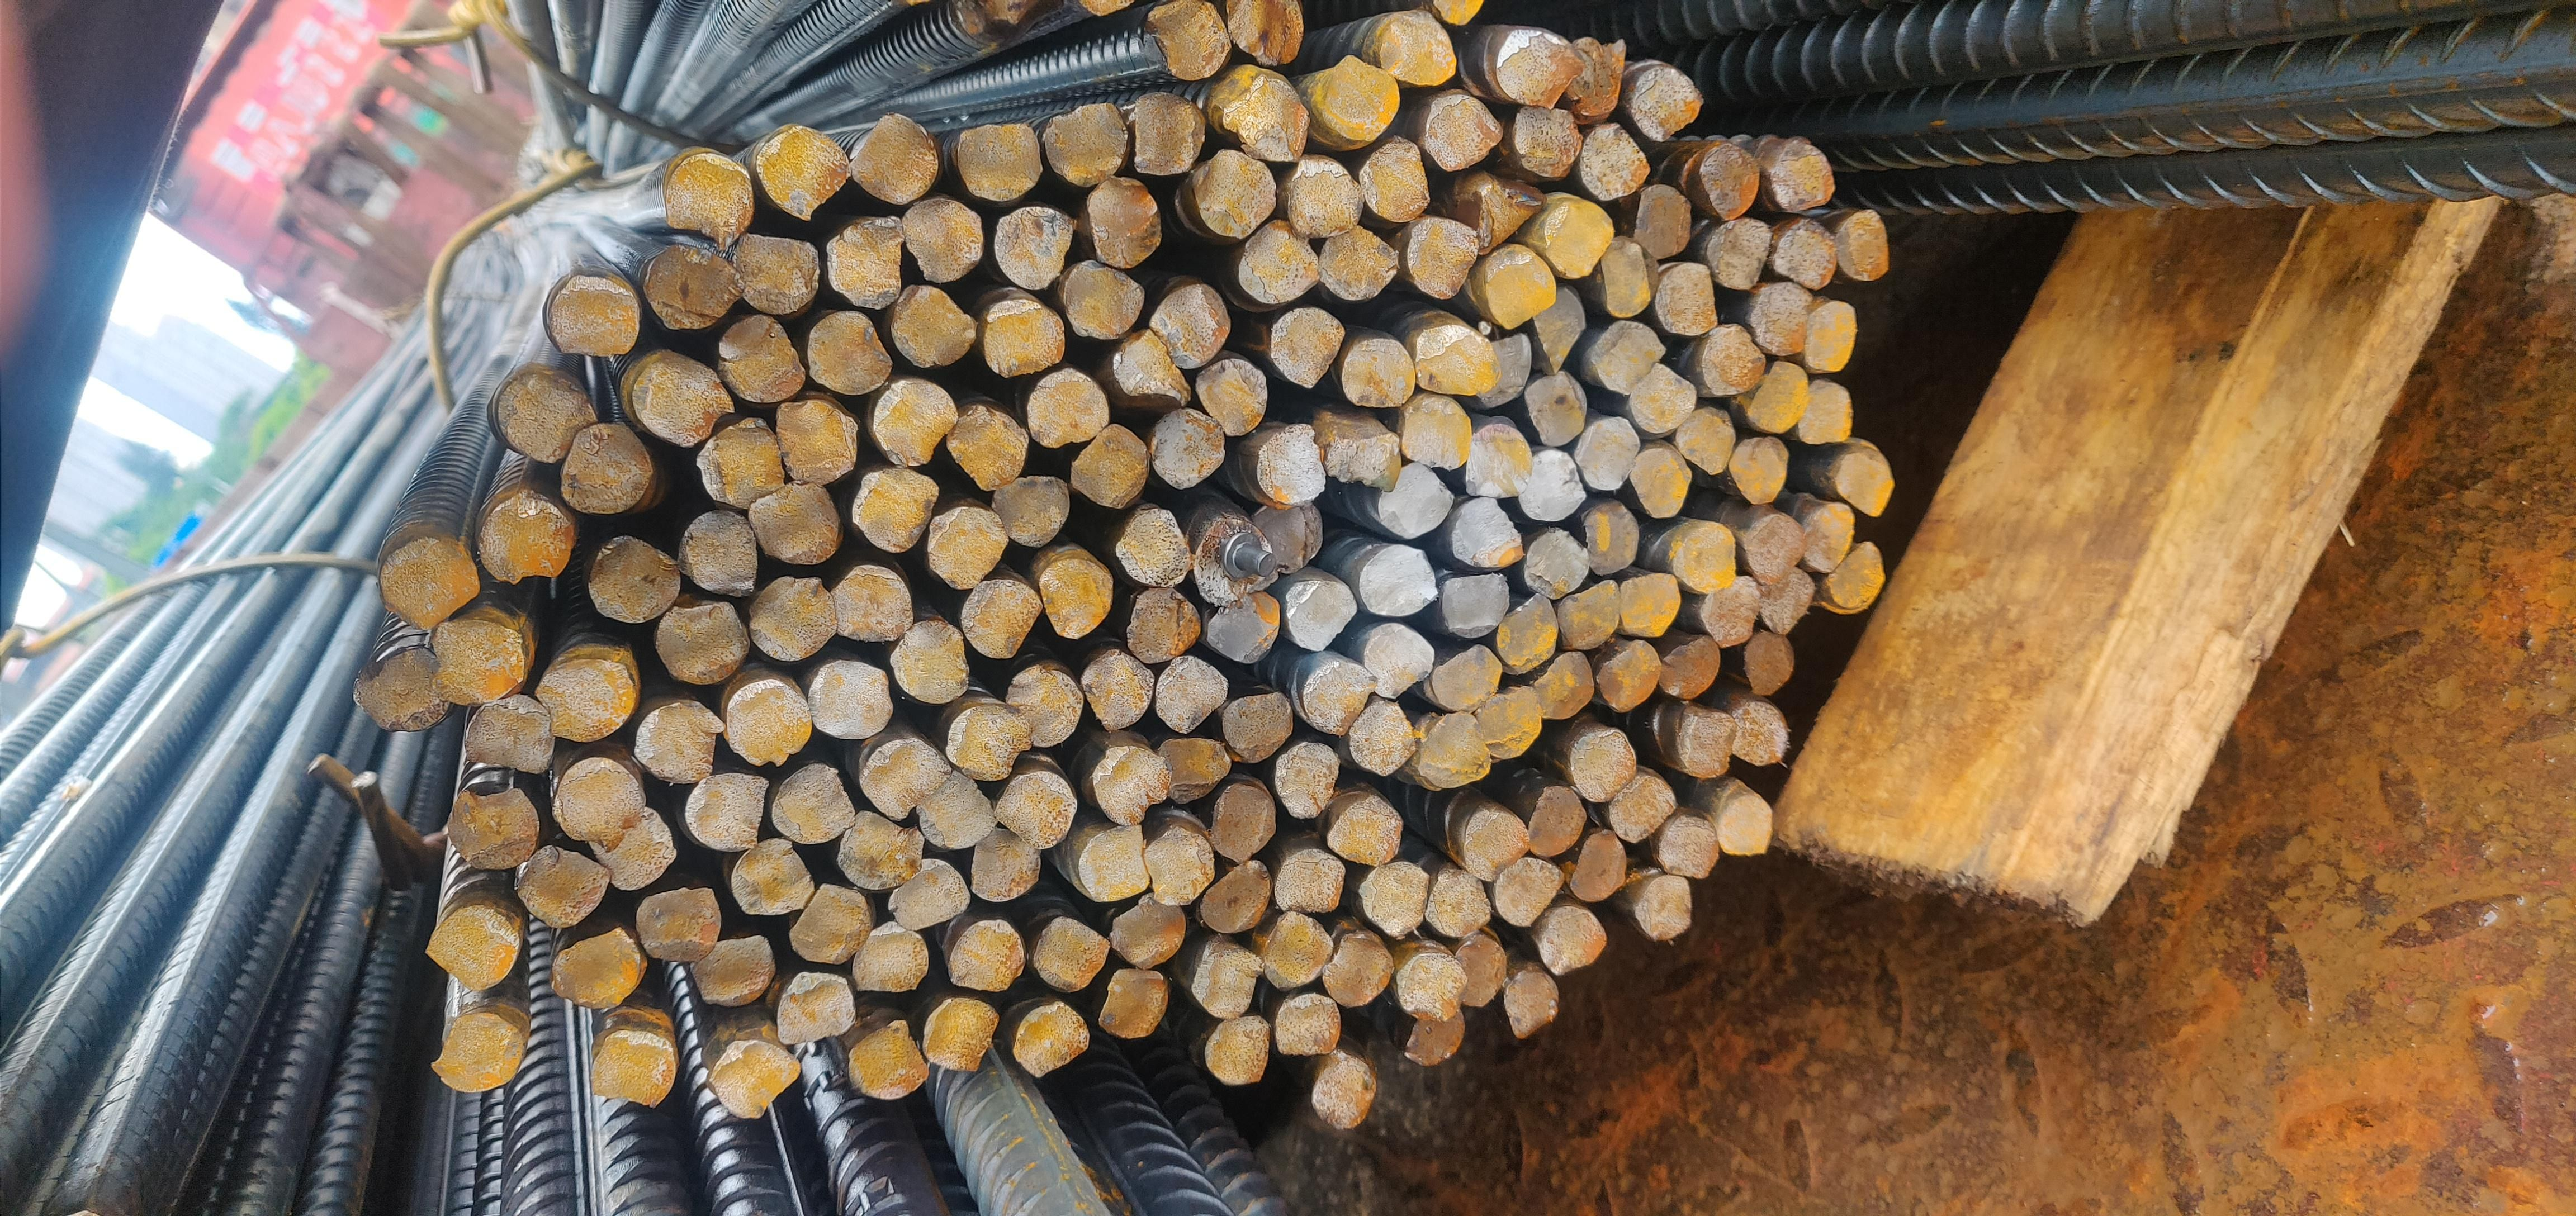rebar: (371, 534, 484, 631), (627, 354, 737, 449), (661, 149, 761, 249), (755, 121, 852, 223), (492, 367, 596, 462), (427, 616, 531, 710), (556, 420, 655, 518), (475, 489, 576, 586), (544, 269, 643, 364), (419, 902, 522, 994), (651, 598, 752, 690), (535, 654, 639, 744), (583, 534, 686, 624), (552, 752, 648, 850), (1216, 69, 1311, 165), (850, 110, 940, 212), (796, 306, 894, 400), (640, 246, 742, 333), (722, 675, 815, 769), (446, 782, 542, 872), (430, 1008, 527, 1097), (883, 281, 980, 372), (856, 732, 951, 822), (461, 690, 556, 779), (633, 700, 730, 788), (745, 479, 841, 568), (548, 927, 642, 1015), (771, 395, 861, 489), (697, 417, 788, 509), (943, 401, 1034, 493), (872, 378, 957, 473), (351, 646, 448, 732), (953, 117, 1044, 205), (1313, 53, 1401, 145), (718, 314, 807, 404), (849, 464, 940, 554), (885, 616, 976, 705), (1190, 517, 1280, 607), (924, 500, 1010, 592), (825, 215, 910, 310), (1148, 278, 1234, 372), (1193, 147, 1276, 241), (1415, 86, 1505, 175), (787, 880, 877, 967), (958, 573, 1045, 664), (1230, 221, 1320, 308), (1263, 301, 1349, 393), (745, 577, 838, 661), (1080, 177, 1164, 271), (832, 810, 927, 893), (512, 845, 610, 927), (1041, 98, 1128, 187), (709, 1037, 801, 1122), (843, 1020, 935, 1105), (629, 885, 724, 964), (682, 769, 770, 854), (902, 198, 985, 288), (804, 657, 895, 742), (992, 202, 1076, 292), (944, 701, 1035, 783), (1067, 421, 1150, 512), (981, 294, 1067, 379), (732, 232, 820, 316), (678, 510, 761, 598), (1023, 364, 1113, 448), (769, 762, 854, 848), (592, 810, 679, 894), (588, 1025, 676, 1109), (828, 560, 915, 644), (1002, 661, 1084, 750), (1372, 7, 1461, 88), (1491, 26, 1580, 108), (1062, 259, 1147, 343), (992, 768, 1078, 853), (1145, 1, 1230, 84), (1008, 995, 1091, 1083), (1410, 322, 1502, 399), (728, 837, 816, 918), (1037, 554, 1117, 642), (1399, 217, 1480, 304), (1357, 134, 1434, 225), (1092, 743, 1172, 828), (1128, 88, 1210, 175), (912, 771, 999, 850), (1079, 645, 1158, 732), (1137, 825, 1219, 907), (1122, 586, 1205, 667), (1107, 892, 1192, 972), (1149, 405, 1227, 491), (1113, 504, 1191, 590), (774, 970, 860, 1047), (1319, 221, 1401, 303), (1624, 60, 1703, 144), (1357, 543, 1441, 621), (989, 474, 1074, 550), (690, 934, 776, 1009), (1153, 653, 1228, 739), (1093, 964, 1172, 1044), (1376, 459, 1456, 540), (1074, 824, 1153, 907), (1395, 393, 1476, 472), (1413, 711, 1495, 790), (920, 993, 997, 1076), (1107, 329, 1192, 406), (1583, 322, 1671, 397), (1255, 421, 1327, 510), (946, 918, 1027, 995), (1478, 251, 1558, 331), (1030, 915, 1112, 992), (1187, 939, 1266, 1022), (1201, 1009, 1277, 1093), (1539, 196, 1615, 279), (1325, 791, 1408, 868), (1282, 573, 1360, 653), (1299, 658, 1376, 739), (1578, 121, 1652, 204), (1195, 358, 1269, 441), (1195, 858, 1273, 935), (1284, 160, 1362, 237), (1337, 334, 1417, 411), (1262, 913, 1338, 993), (1361, 620, 1437, 700), (1513, 100, 1587, 182), (888, 859, 972, 932), (1771, 213, 1843, 297), (1224, 1, 1313, 69), (1219, 690, 1296, 768), (1461, 422, 1537, 501), (851, 923, 932, 995), (1768, 134, 1839, 217), (966, 826, 1043, 902), (1449, 494, 1524, 572), (1320, 932, 1395, 1010), (1530, 284, 1596, 373), (1206, 592, 1282, 665), (1253, 498, 1327, 577), (1309, 1051, 1381, 1133), (1209, 783, 1280, 865), (1625, 443, 1693, 524), (1695, 140, 1760, 225), (1625, 360, 1699, 435), (1395, 949, 1468, 1023), (1357, 862, 1432, 938), (1571, 414, 1643, 491), (1566, 34, 1630, 120), (1473, 683, 1543, 762), (1273, 741, 1343, 821), (1347, 697, 1416, 777), (1470, 177, 1542, 254), (1702, 218, 1774, 294), (1518, 448, 1590, 524), (1460, 809, 1531, 883), (1607, 772, 1678, 847), (1424, 866, 1494, 943), (1521, 528, 1592, 604), (1326, 426, 1405, 495), (1740, 510, 1807, 590), (1493, 593, 1561, 673), (1437, 572, 1514, 643), (1523, 372, 1587, 454), (1429, 643, 1505, 712), (1493, 857, 1563, 932), (1569, 728, 1636, 805), (1654, 260, 1720, 339), (1830, 443, 1896, 520), (1157, 731, 1235, 797), (1671, 523, 1739, 596), (1536, 906, 1610, 977), (1699, 322, 1766, 398), (1632, 180, 1697, 260), (1581, 500, 1645, 579), (1831, 205, 1892, 286), (1272, 991, 1343, 1060), (1745, 358, 1811, 434), (1697, 577, 1763, 652), (1598, 640, 1664, 714), (1557, 578, 1622, 656), (1275, 847, 1346, 917), (1532, 650, 1598, 724), (1749, 277, 1812, 355), (1597, 236, 1653, 321), (1619, 568, 1684, 642), (1827, 540, 1891, 615), (1801, 297, 1860, 376), (1652, 813, 1720, 882), (1658, 632, 1724, 704), (1729, 697, 1791, 770), (1526, 783, 1588, 859), (1713, 786, 1775, 861), (1674, 407, 1740, 477), (1570, 826, 1628, 903), (1674, 711, 1737, 781), (1633, 873, 1694, 945), (1728, 438, 1789, 507), (1796, 376, 1855, 449), (1455, 934, 1509, 1010), (1478, 333, 1533, 407), (1504, 966, 1559, 1041), (1800, 502, 1855, 577), (1759, 564, 1815, 636), (1741, 628, 1798, 700), (1401, 1006, 1469, 1065), (1430, 1, 1487, 29)
